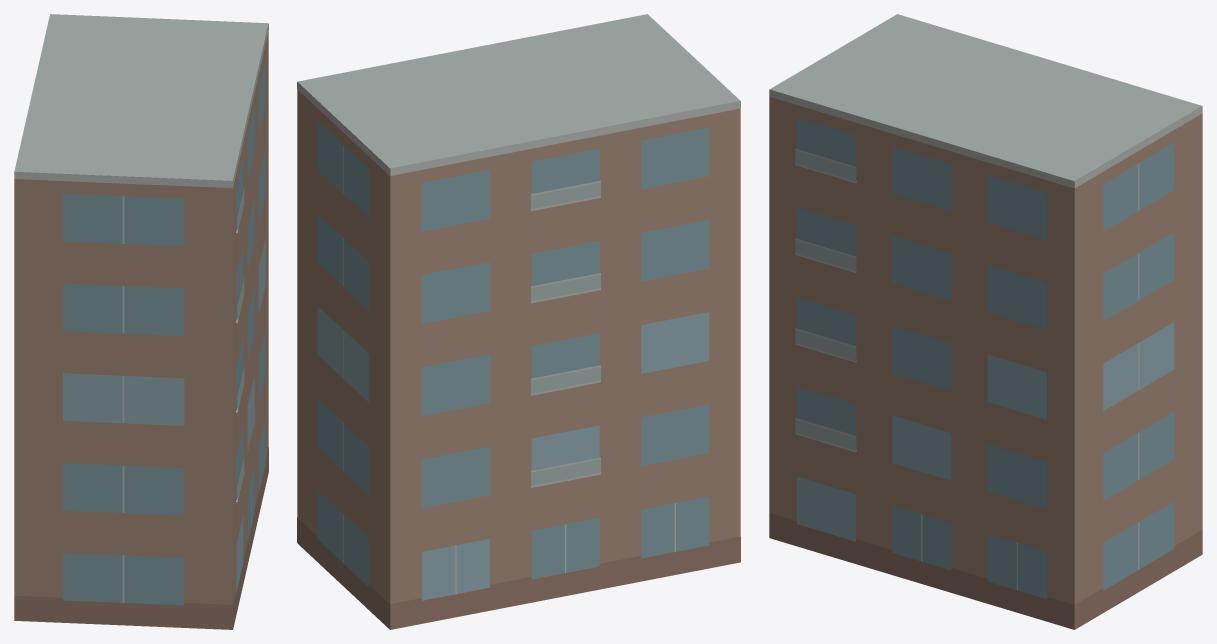
The model's file is survey-upis-32835799.glb.
The picture shows the model from 3 angles, left to right: view 1: azimuth 30°, elevation 25°; view 2: azimuth 150°, elevation 25°; view 3: azimuth 270°, elevation 25°; orthographic projection. The views are drawn at different scales.
Parts seen in each view (by area): view 1: survey-upis-32835799.tmp; view 2: survey-upis-32835799.tmp; view 3: survey-upis-32835799.tmp.
Part boxes in pixels (<box>): survey-upis-32835799.tmp: <box>14,14,268,629</box>; survey-upis-32835799.tmp: <box>297,14,740,629</box>; survey-upis-32835799.tmp: <box>769,14,1202,629</box>.
Bounding box in the file's own units: 12 × 15 × 13.13.
